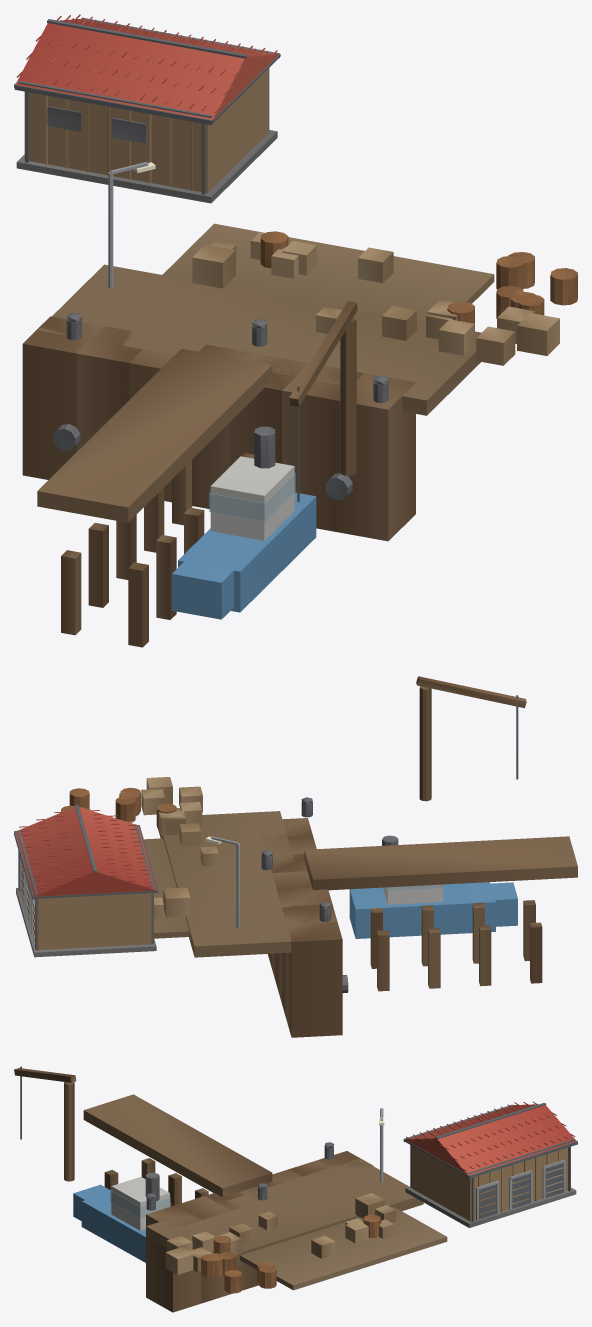
Rendered from Port_P1.fbx.
3 renders of one model, top to bottom at view 1: azimuth 30°, elevation 25°; view 2: azimuth 150°, elevation 25°; view 3: azimuth 270°, elevation 25°, orthographic. The views are drawn at different scales.
Visible parts, largest first — view 1: Port.Shed, Port.QuayWall, Port.Apron, Port.Pier0, Port.Boat, Port.Crates, Port.Derrick, Port.Lamp0; view 2: Port.Shed, Port.Pier0, Port.Apron, Port.QuayWall, Port.Boat, Port.Crates, Port.Derrick, Port.Lamp0; view 3: Port.Apron, Port.Shed, Port.Pier0, Port.QuayWall, Port.Crates, Port.Boat, Port.Derrick.
Part boxes in pixels (x1,y1,x2,y2): Port.Shed: [14, 14, 280, 203]; Port.QuayWall: [22, 316, 415, 541]; Port.Apron: [38, 223, 494, 415]; Port.Pier0: [37, 348, 272, 647]; Port.Boat: [171, 426, 316, 619]; Port.Crates: [192, 231, 577, 365]; Port.Derrick: [289, 301, 357, 501]; Port.Lamp0: [108, 162, 155, 288]; Port.Shed: [14, 805, 158, 957]; Port.Pier0: [304, 836, 577, 991]; Port.Apron: [144, 811, 311, 957]; Port.QuayWall: [261, 818, 348, 1037]; Port.Boat: [349, 835, 517, 938]; Port.Crates: [61, 777, 218, 918]; Port.Derrick: [416, 676, 526, 801]; Port.Lamp0: [205, 836, 240, 928]; Port.Apron: [146, 1158, 447, 1290]; Port.Shed: [403, 1101, 577, 1227]; Port.Pier0: [83, 1094, 272, 1206]; Port.QuayWall: [146, 1151, 373, 1312]; Port.Crates: [165, 1193, 395, 1293]; Port.Boat: [73, 1172, 170, 1262]; Port.Derrick: [14, 1066, 76, 1181].
Bounding box in the file's own units: 5055 × 2495 × 6334.
